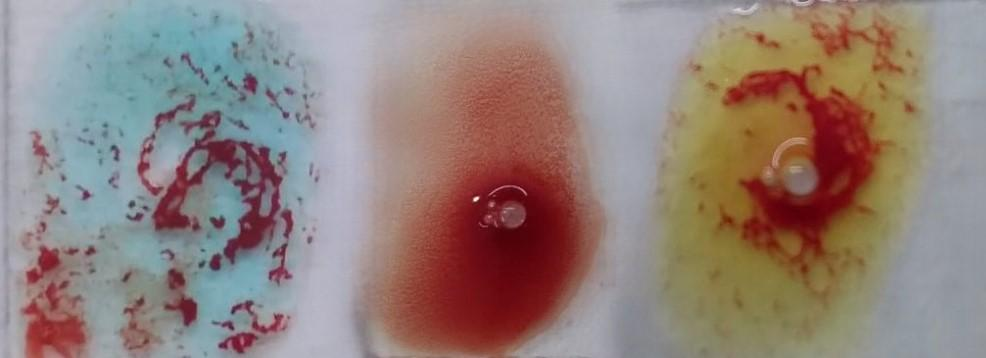A: (18, 7, 289, 358)
B: (675, 8, 896, 358)
D: (392, 30, 598, 358)
